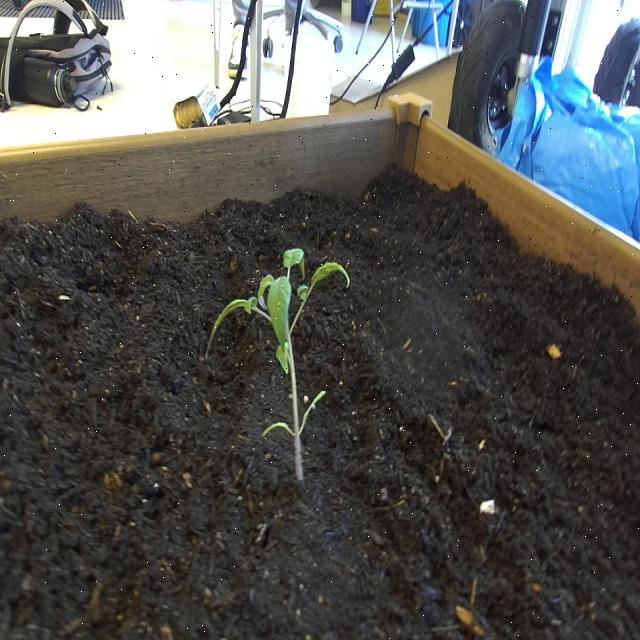Healthy: (200, 216, 352, 497)
